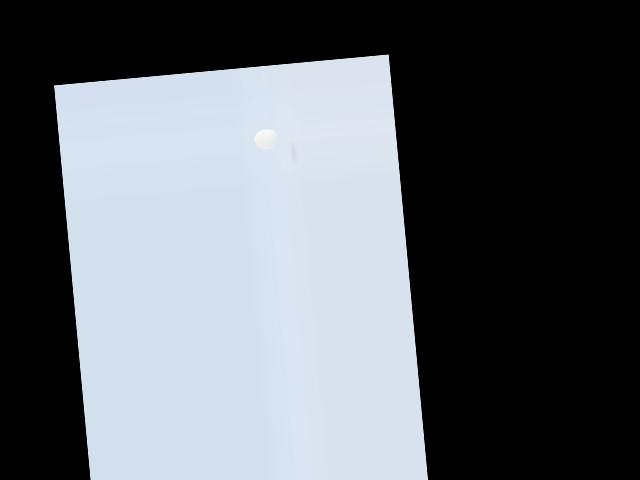egg: (253, 127, 280, 150)
